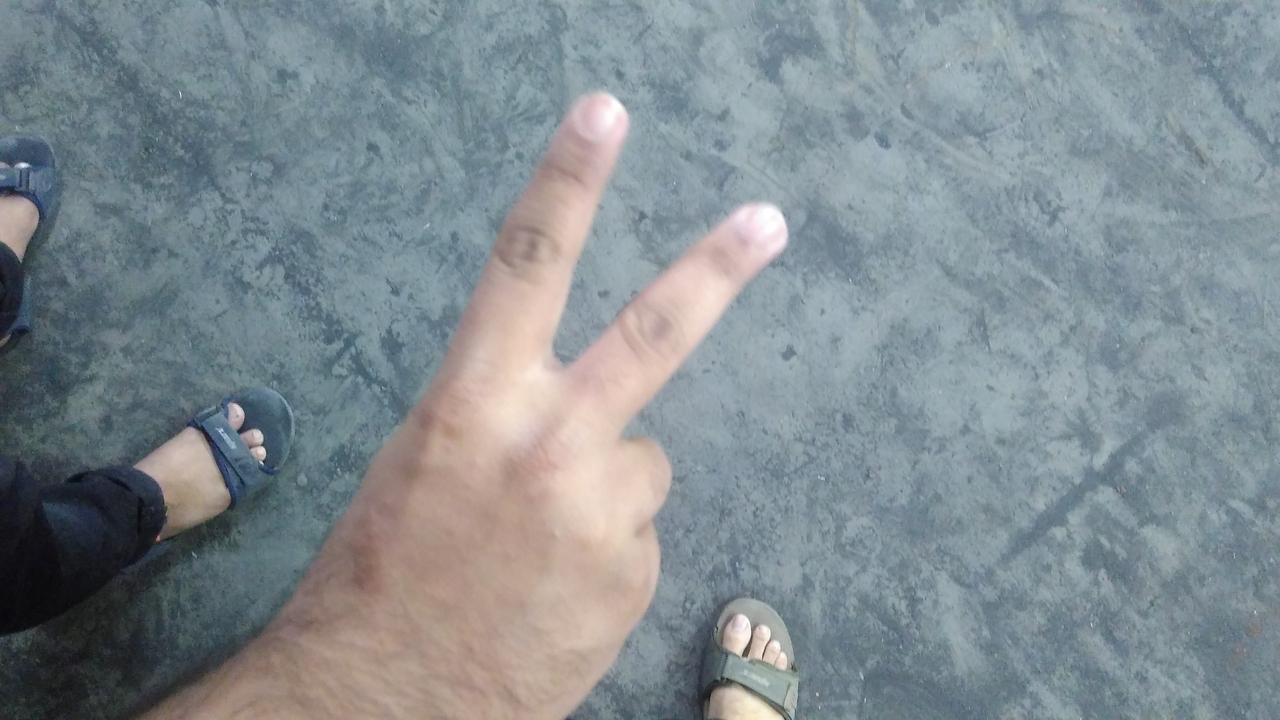fingertip: (710, 188, 806, 258), (560, 84, 636, 150)
